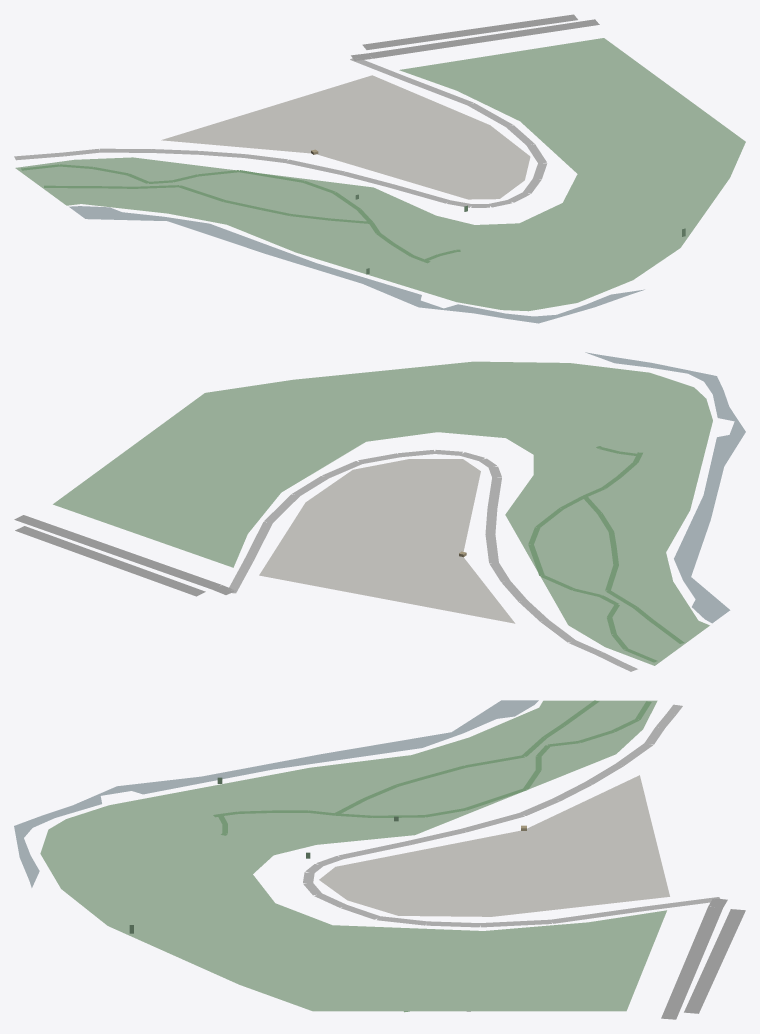
3 views of the same model, one above another, from view 1: azimuth 30°, elevation 25°; view 2: azimuth 150°, elevation 25°; view 3: azimuth 270°, elevation 25° (orthographic). The views are drawn at different scales.
Bounding box in the file's own units: 512 × 7.38 × 498.
